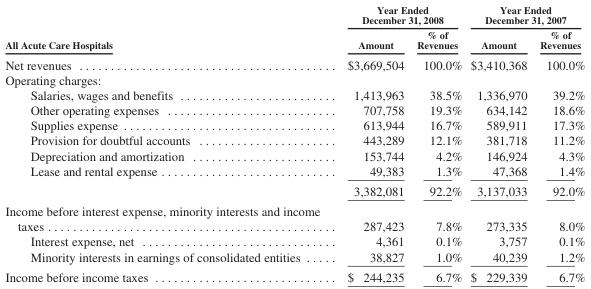table: (4, 3, 584, 283)
table column: (4, 3, 333, 283), (333, 3, 409, 283), (465, 3, 532, 283), (409, 3, 465, 283), (532, 3, 584, 283)
table column header: (4, 3, 584, 53)
table projected row header: (4, 71, 584, 87)
table row: (4, 200, 584, 233), (4, 27, 584, 53), (4, 3, 584, 27), (4, 180, 584, 200), (4, 53, 584, 71), (4, 162, 584, 180), (4, 248, 584, 266), (4, 266, 584, 283), (4, 71, 584, 87), (4, 87, 584, 102), (4, 102, 584, 117), (4, 117, 584, 132), (4, 132, 584, 147), (4, 147, 584, 162), (4, 233, 584, 248)
table spanning cell: (4, 3, 333, 53), (333, 3, 465, 27), (465, 3, 584, 27)
